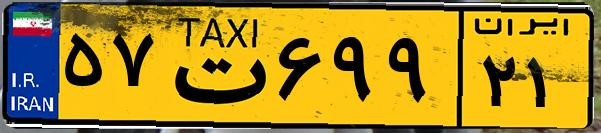1: (525, 38, 570, 115)
2: (475, 38, 525, 113)
5: (57, 26, 110, 100)
6: (270, 28, 330, 110)
7: (110, 28, 158, 98)
9: (385, 28, 445, 110), (330, 28, 385, 110)
ت: (158, 12, 270, 120)
